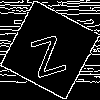Z: (25, 25, 68, 79)
